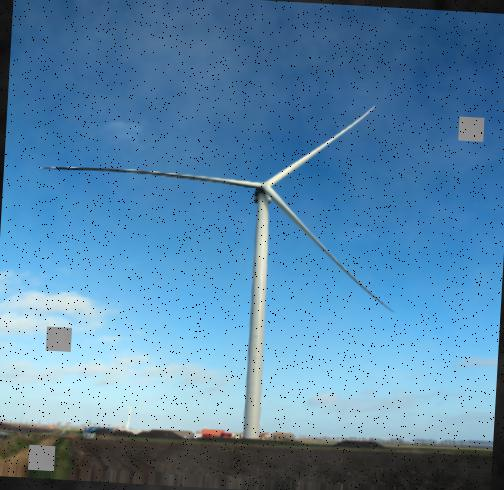wind turbine: (44, 104, 396, 439)
